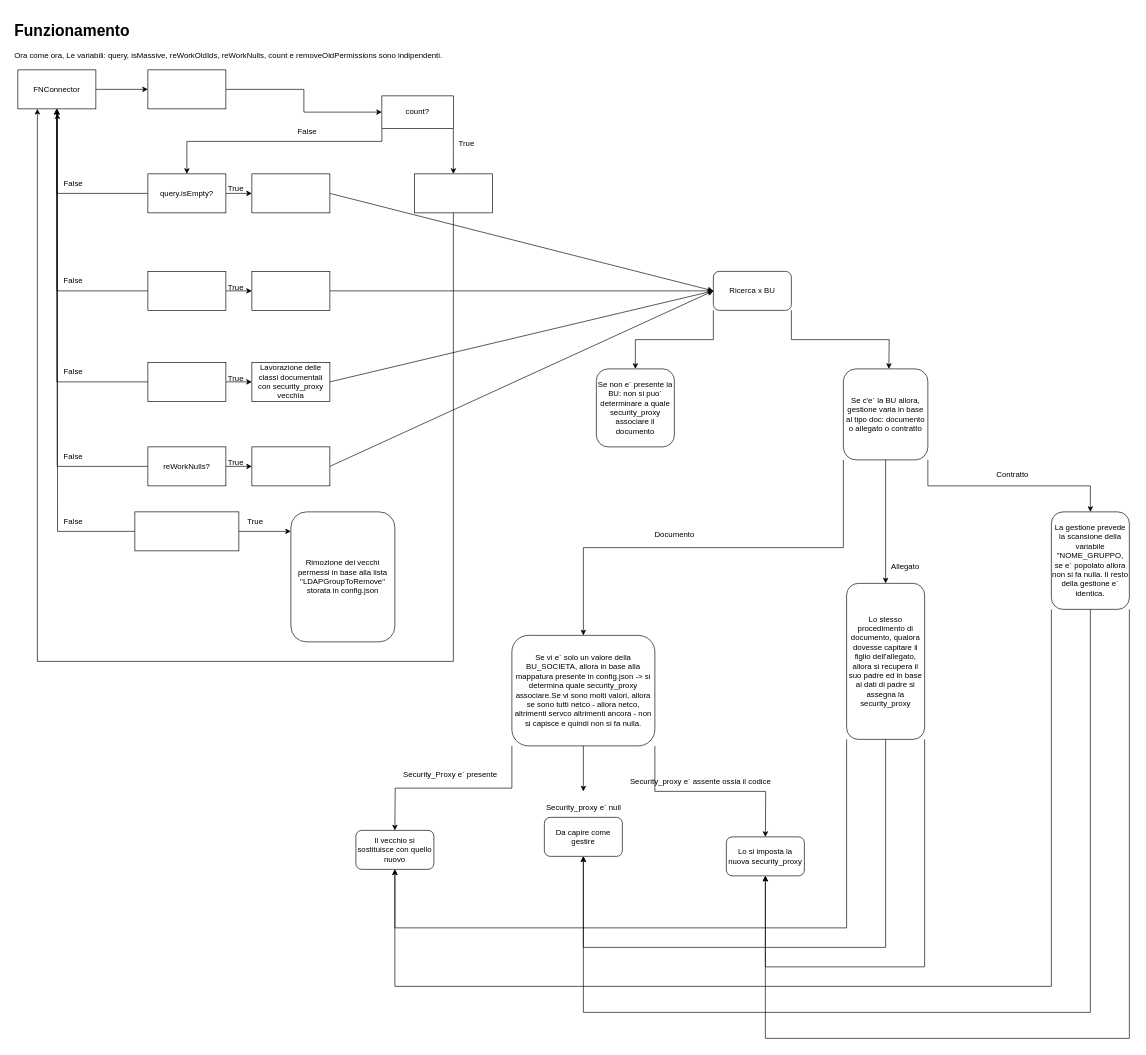
Image size: 1146x1055. Some labels were removed from this diagram. The shapes that lost their labels are listed below. From the top down, each one's centre as x and y in pixels, then its label:
At (186,89): "SecurityFixer".
At (290,193): "Lavorazione delle classi documentali in base alla query".
At (453,193): "Fa la count delle classi documentali elaborati, nulli e non elaborati".
At (186,290): "isMassive?".
At (290,290): "Lavorazione delle classi documentali in base alla docClassList".
At (186,381): "reWorkOldIds?".
At (290,466): "Lavorazione delle classi documentali con security_proxy a null".
At (186,531): "isRemoveOldPermissions?".
